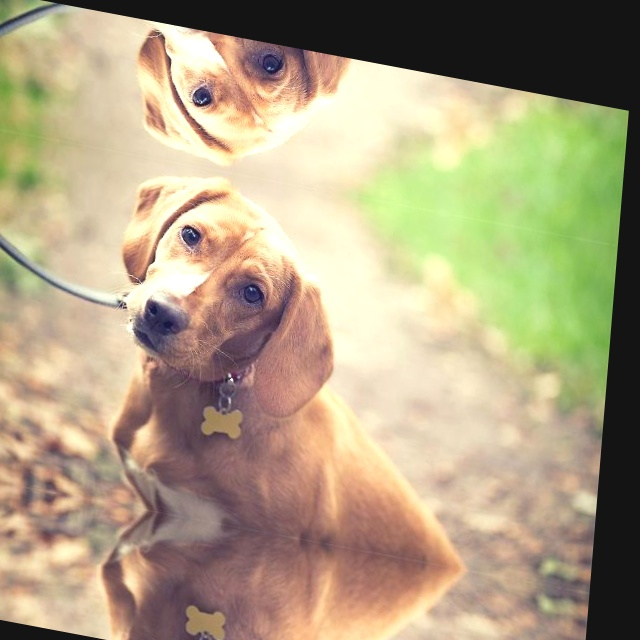dog: (93, 151, 363, 441), (113, 16, 374, 198), (73, 603, 326, 640)
